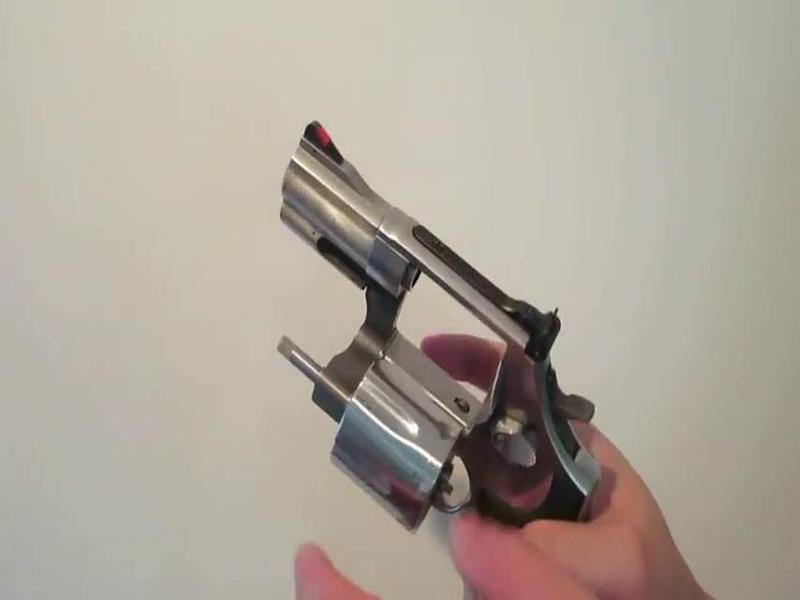Revolver: (237, 86, 621, 600)
